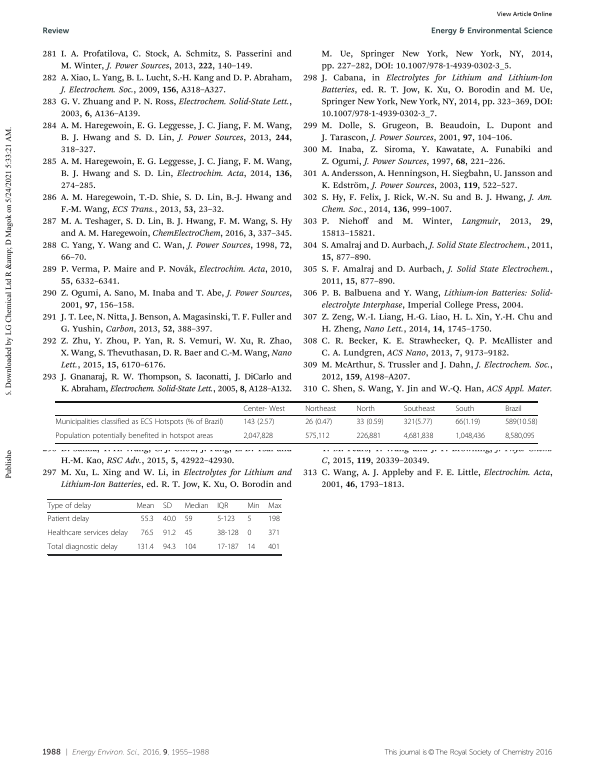borderless: (55, 400, 538, 443), (46, 498, 281, 554)
cell: (55, 417, 224, 427), (55, 431, 214, 441), (47, 529, 129, 539), (47, 543, 119, 553), (47, 515, 90, 525), (47, 502, 92, 511), (242, 404, 286, 413), (504, 417, 538, 427), (242, 417, 275, 427), (242, 431, 274, 441), (454, 431, 486, 441), (504, 431, 536, 441), (403, 431, 434, 441), (403, 417, 433, 427), (304, 404, 337, 413), (403, 404, 436, 413), (304, 417, 333, 427), (355, 417, 384, 427), (454, 417, 481, 427), (355, 431, 382, 441), (304, 431, 330, 441), (216, 529, 240, 539), (216, 543, 240, 553), (184, 502, 209, 511), (216, 515, 236, 525), (136, 543, 155, 553), (355, 404, 376, 413), (454, 404, 475, 413), (135, 502, 155, 511), (504, 404, 523, 413), (140, 515, 155, 525), (162, 515, 177, 525), (140, 529, 155, 539), (162, 529, 177, 539), (162, 543, 177, 553), (267, 515, 281, 525), (267, 529, 281, 539), (267, 543, 281, 553), (267, 502, 282, 511), (184, 543, 197, 553), (246, 502, 260, 511), (216, 502, 229, 511), (246, 543, 256, 553), (162, 502, 173, 511), (184, 515, 193, 525), (184, 529, 193, 539), (246, 515, 252, 525), (246, 529, 252, 539)
